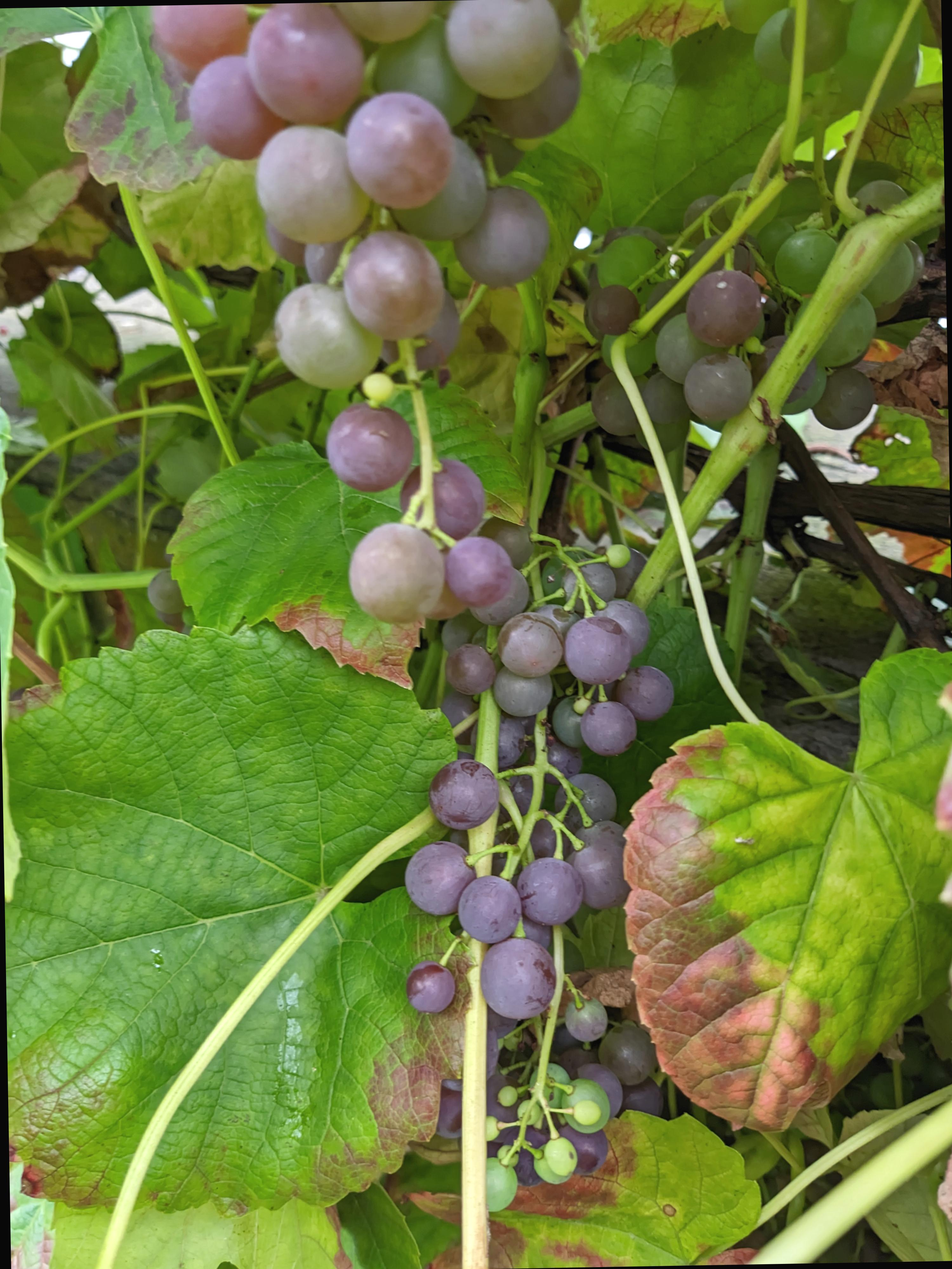Grape Unripe: (139, 6, 588, 635), (381, 550, 669, 1224), (574, 173, 902, 459)
